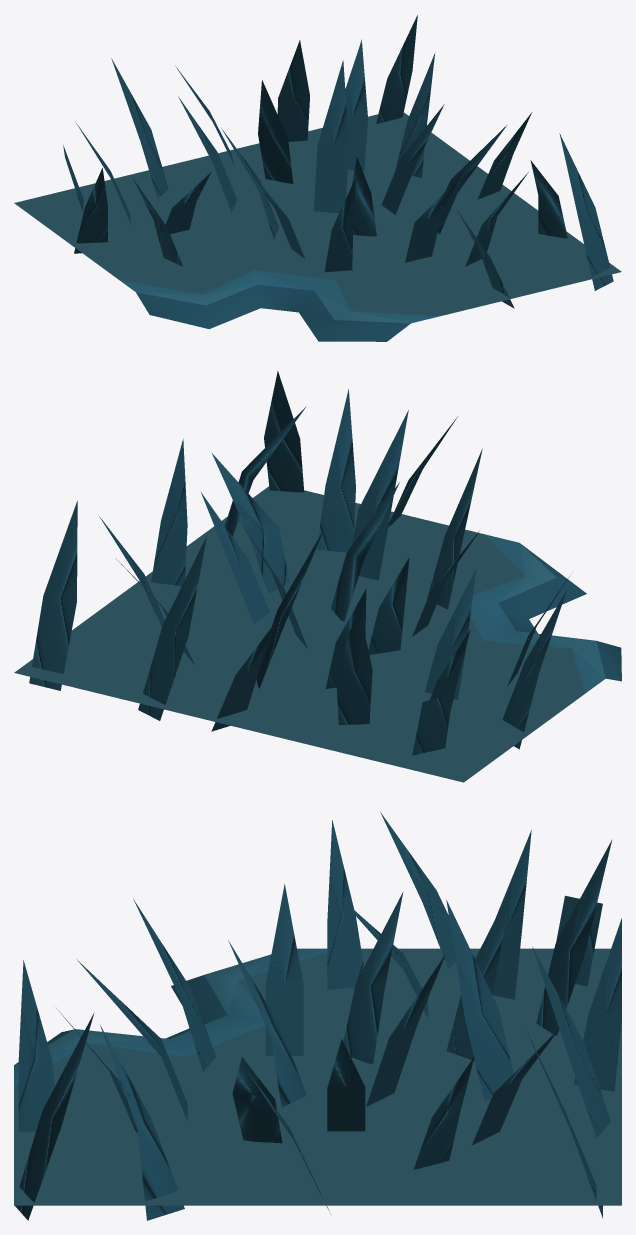
3 views of the same model, one above another, from view 1: azimuth 30°, elevation 25°; view 2: azimuth 150°, elevation 25°; view 3: azimuth 270°, elevation 25° (orthographic). The views are drawn at different scales.
Parts seen in each view (by area): view 1: 32141; view 2: 32141; view 3: 32141.
Part boxes in pixels (x1,y1,x2,y2): 32141: [14, 15, 621, 341]; 32141: [14, 370, 621, 782]; 32141: [14, 812, 621, 1220].
Size of the model in its own units: 128 by 44 by 128.
